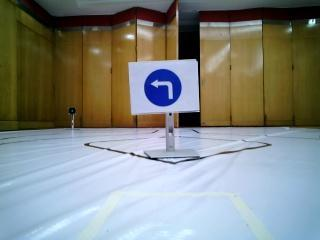left: (131, 62, 198, 114)
